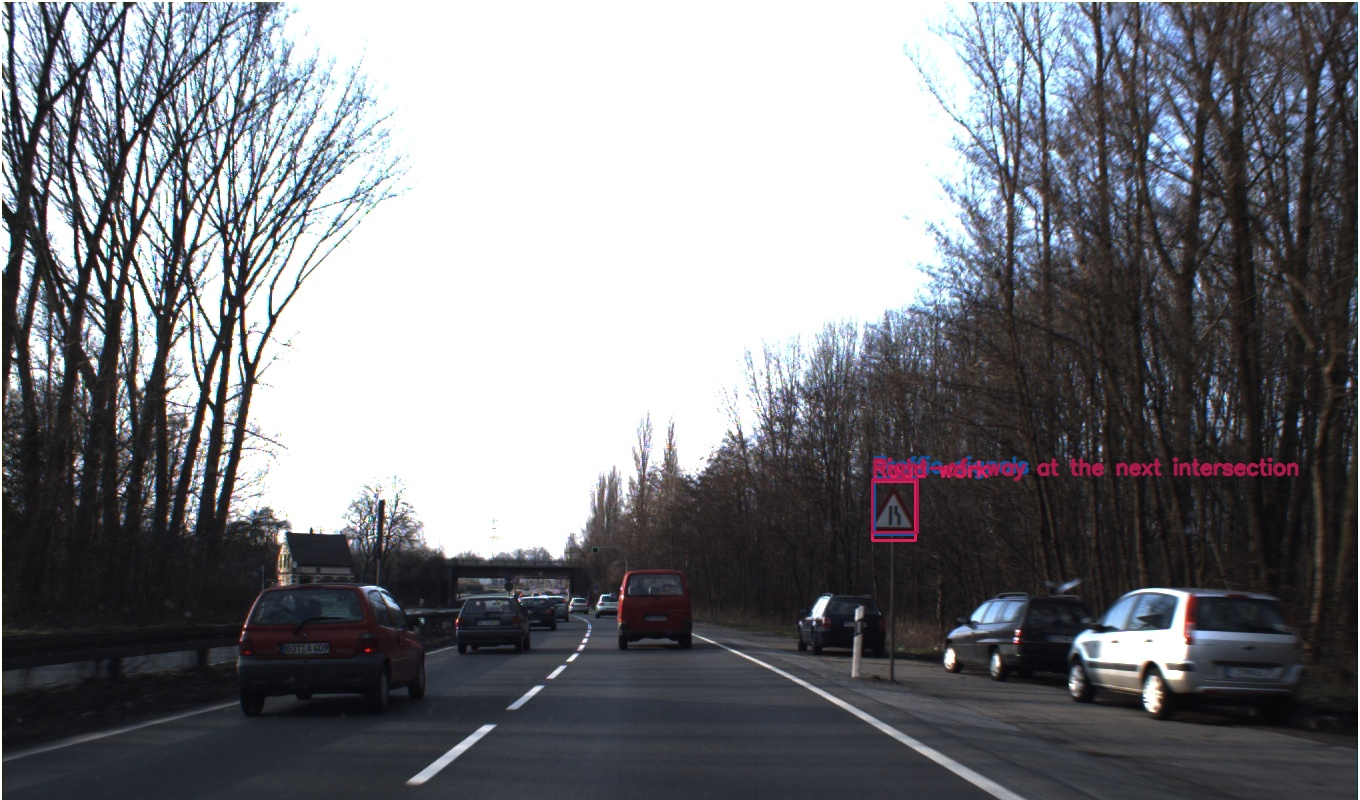End of no passing by vehicles over 3.5 metric tons: (1245, 247, 1304, 306)
